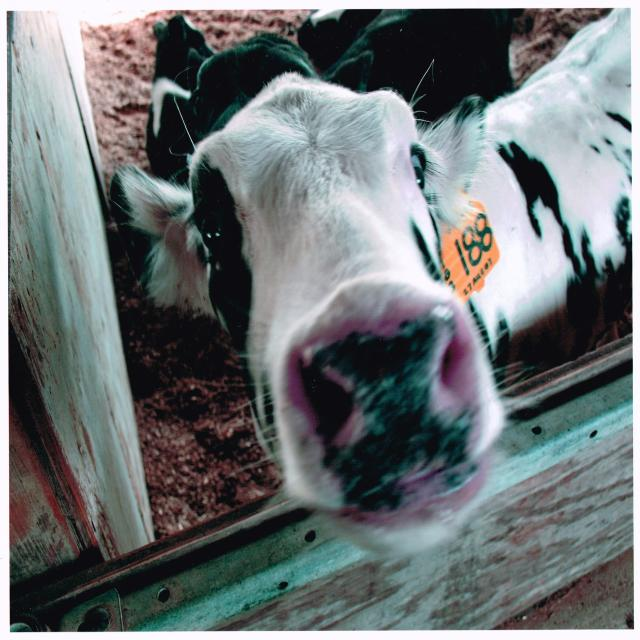cow: (111, 9, 631, 554)
